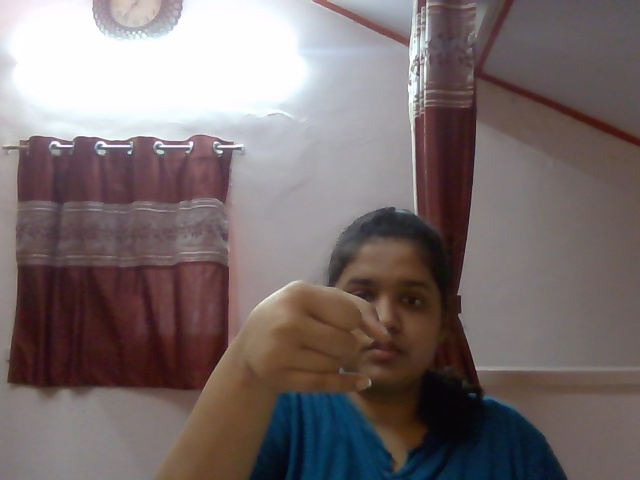j: (246, 273, 401, 410)
